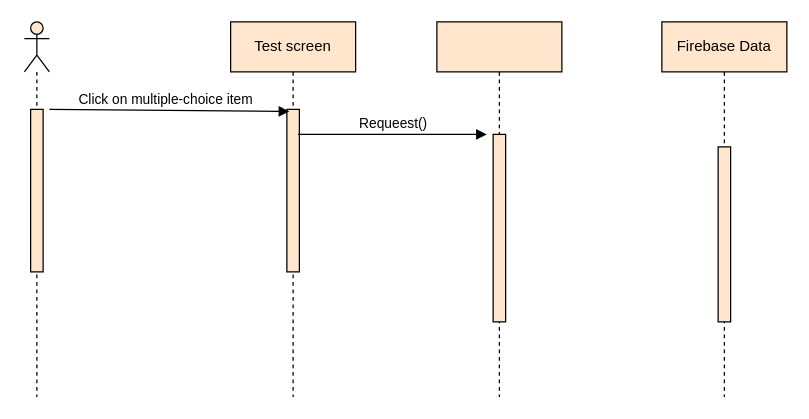
The diagram is 809 pixels wide and 419 high, and some of its shapes have lost their labels. Here are the shapes that lost their labels. From the top down, the box of each, then its label:
(23, 21, 49, 397): User
(436, 21, 562, 397): Presenter
